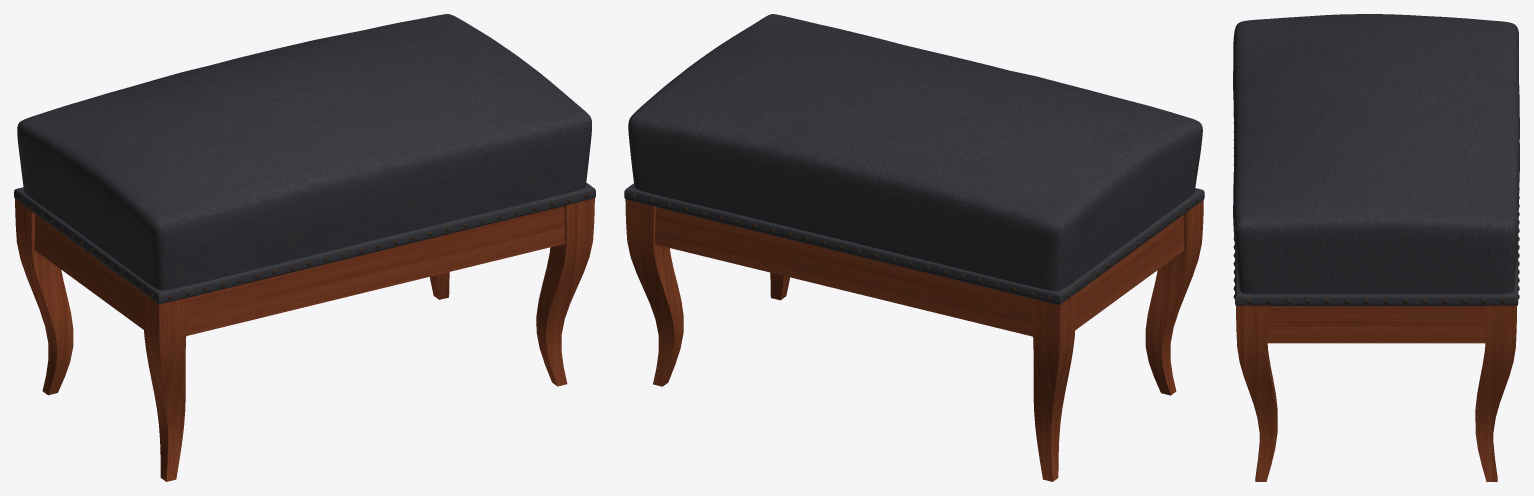
The picture shows the model from 3 angles, left to right: view 1: azimuth 30°, elevation 25°; view 2: azimuth 150°, elevation 25°; view 3: azimuth 270°, elevation 25°; orthographic projection. The views are drawn at different scales.
Parts seen in each view (by area): view 1: Bench_001; view 2: Bench_001; view 3: Bench_001.
Boxes of the visible parts, box(x1,y1,x2,y2) form: Bench_001: box(14, 14, 595, 481); Bench_001: box(624, 14, 1204, 481); Bench_001: box(1233, 14, 1519, 481).
Bounding box in the file's own units: 61.6 × 40.15 × 35.62.
Materials: 3 (2 with a texture image).
